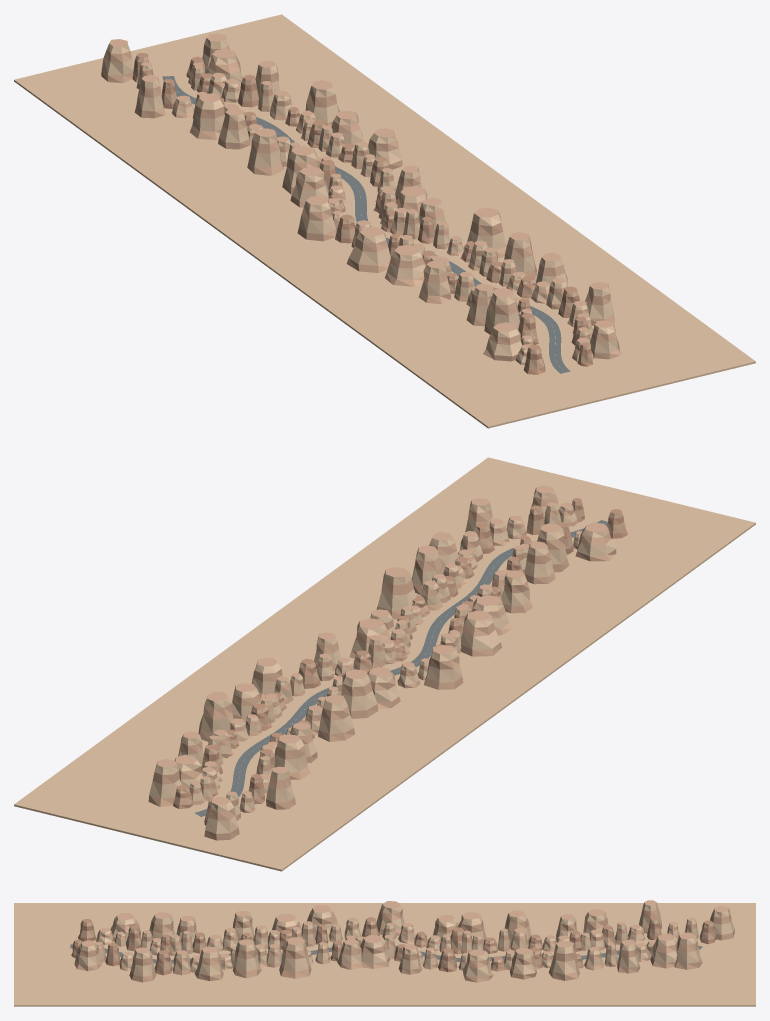
File: canyon.glb
3 renders of one model, top to bottom at view 1: azimuth 30°, elevation 25°; view 2: azimuth 150°, elevation 25°; view 3: azimuth 270°, elevation 25°, orthographic. The views are drawn at different scales.
Size of the model in its own units: 300 by 43.3 by 920.
